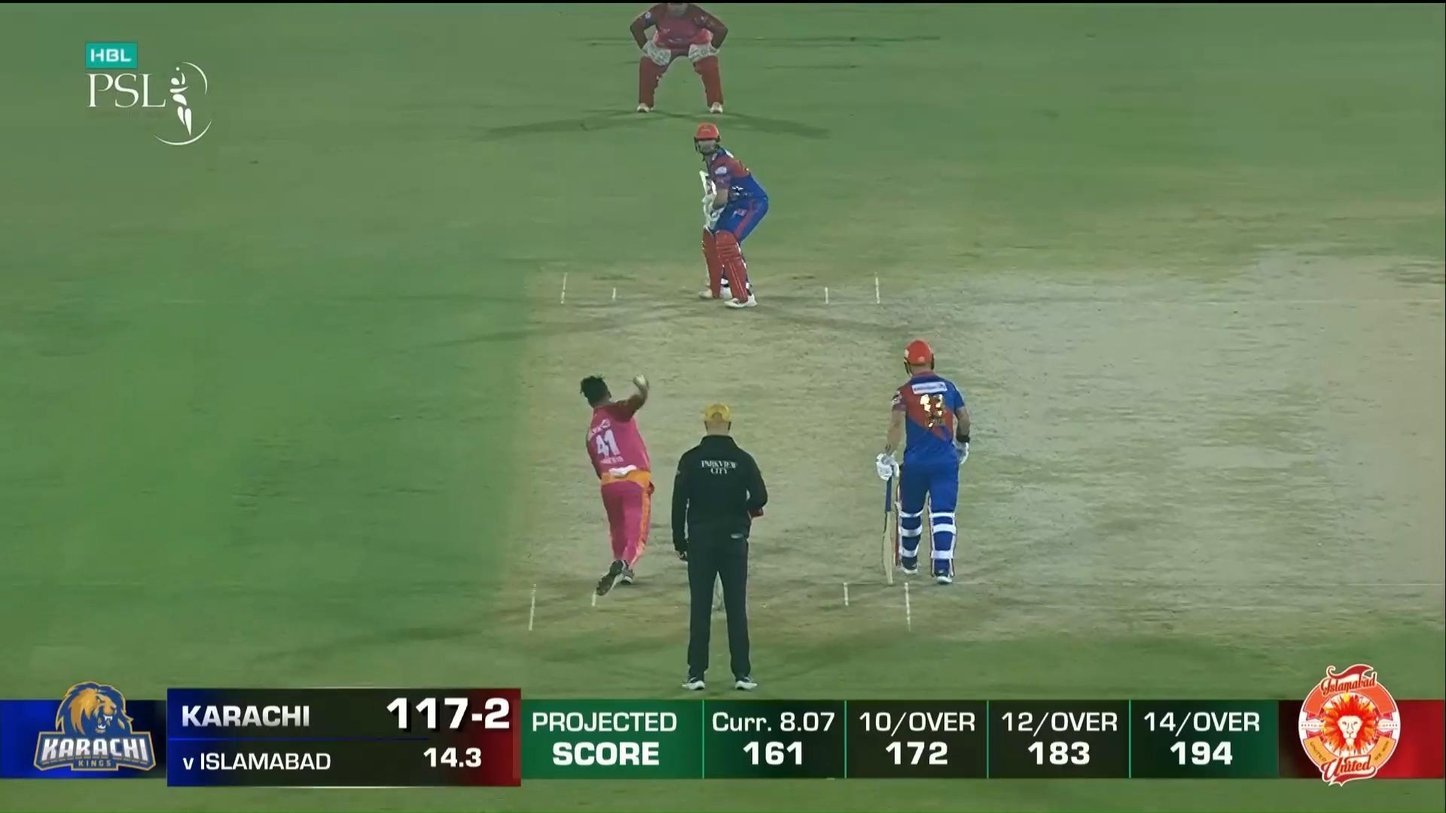batsman: (693, 122, 769, 309)
